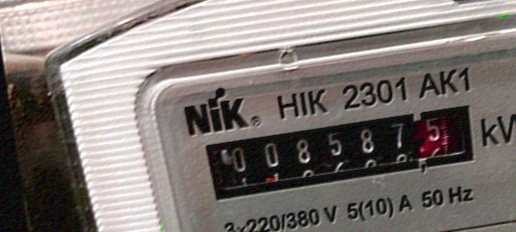0: (228, 143, 249, 175), (262, 139, 283, 170)
5: (424, 114, 445, 146), (325, 129, 346, 159)
7: (388, 119, 409, 151)
8: (356, 124, 378, 157), (293, 136, 313, 166)
screen: (185, 88, 496, 214)
